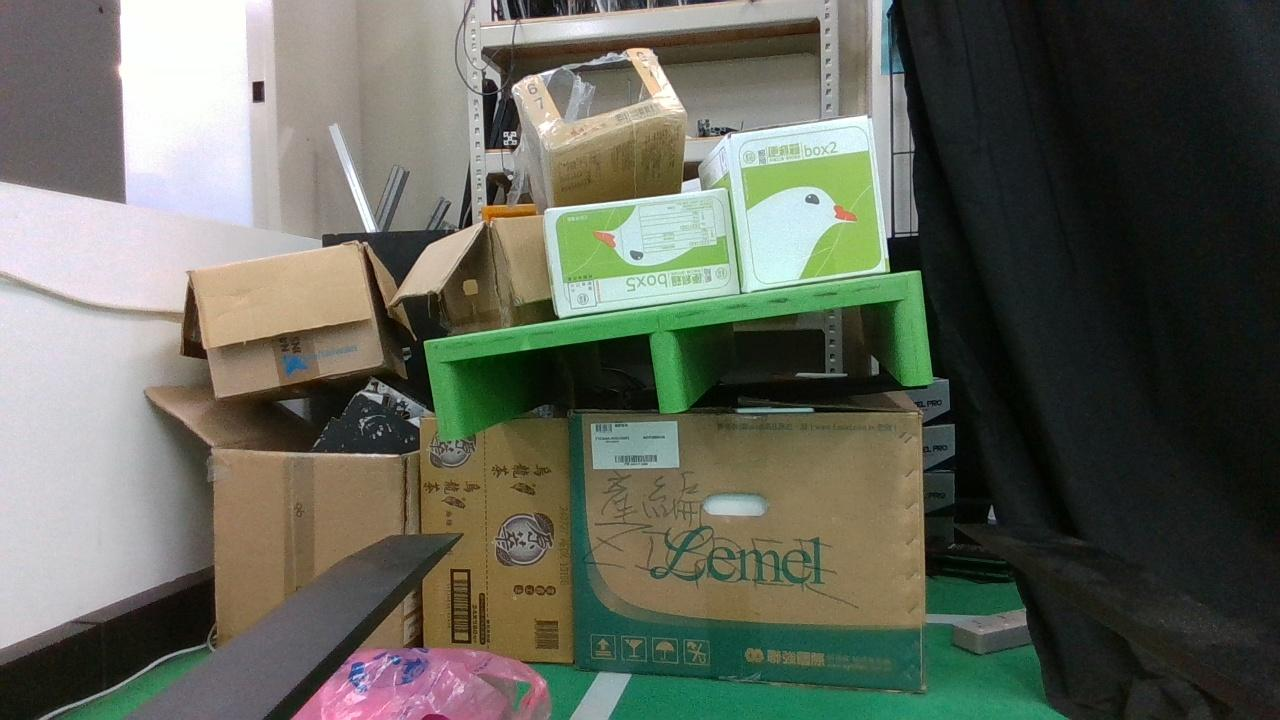Pallet: (425, 272, 935, 438)
